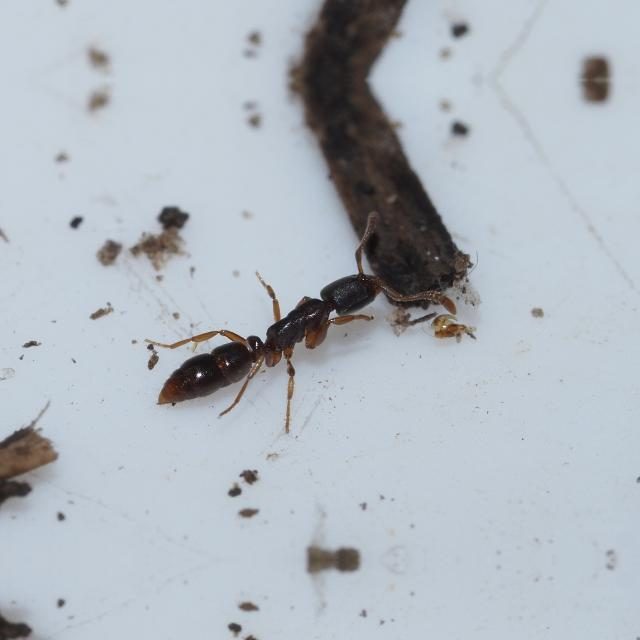Ponera: (142, 238, 404, 422)
